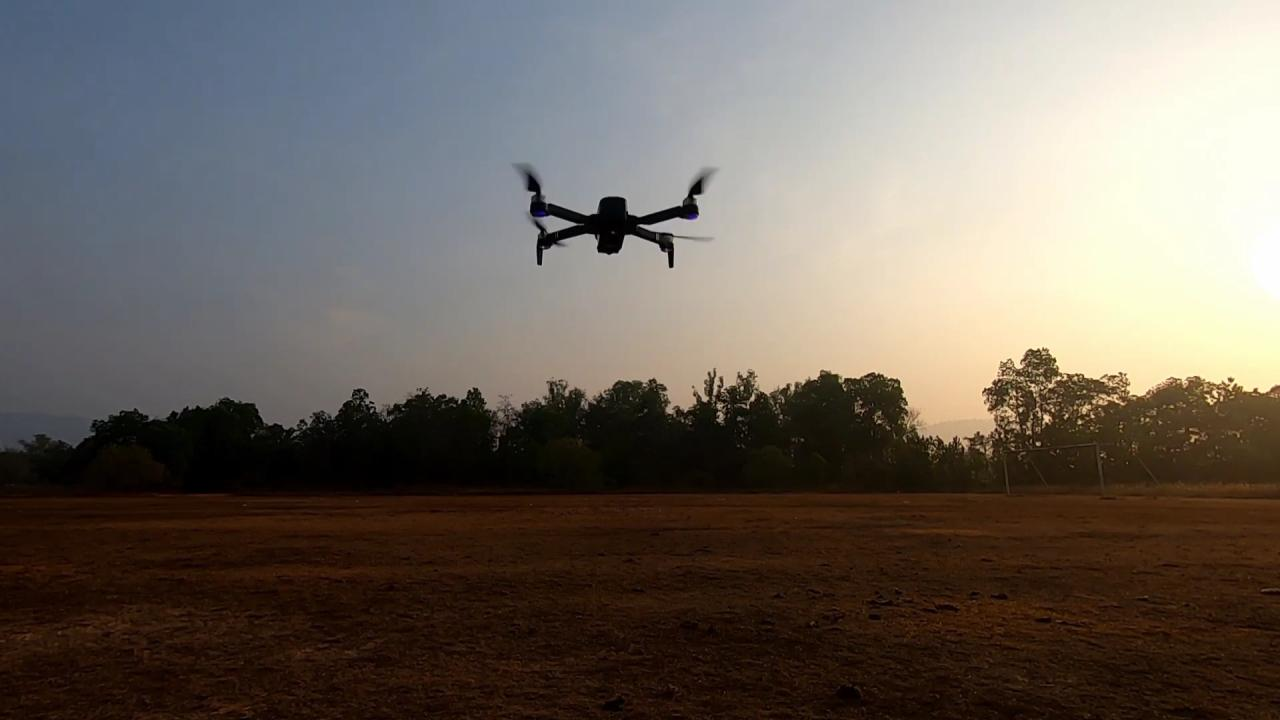Drone: (505, 153, 725, 278)
